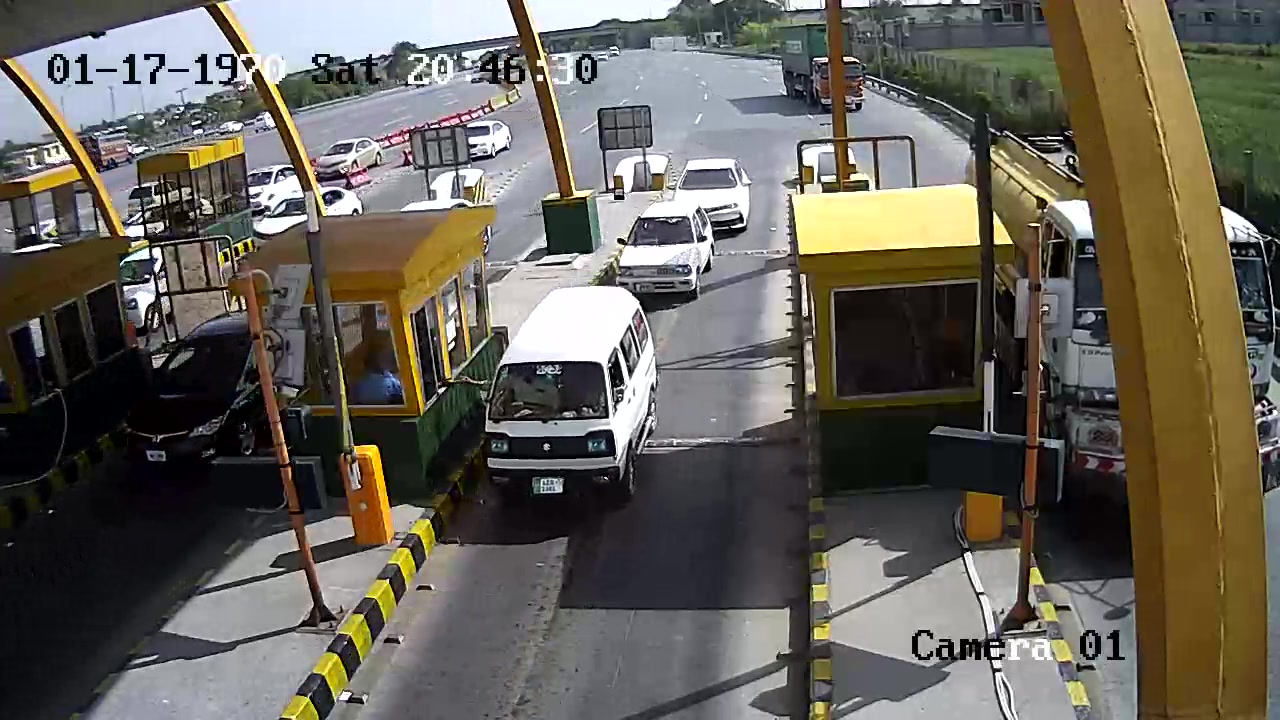F1: (473, 285, 655, 514)
